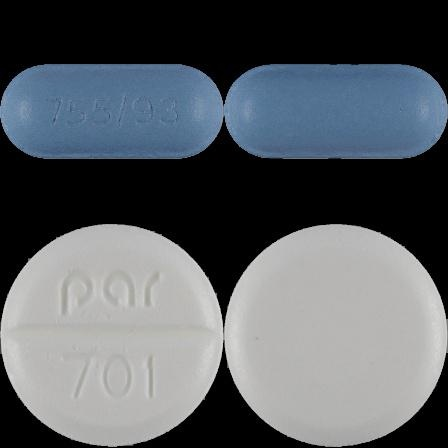54868-3049: (0, 0, 224, 224)
